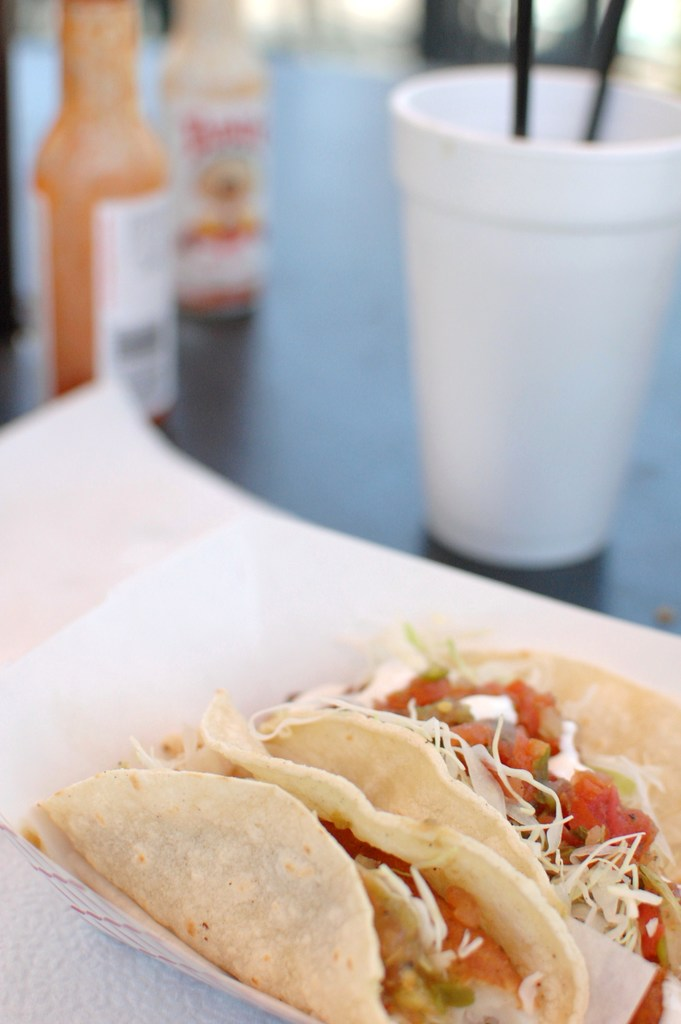taco: (17, 692, 588, 1023), (352, 634, 680, 995)
